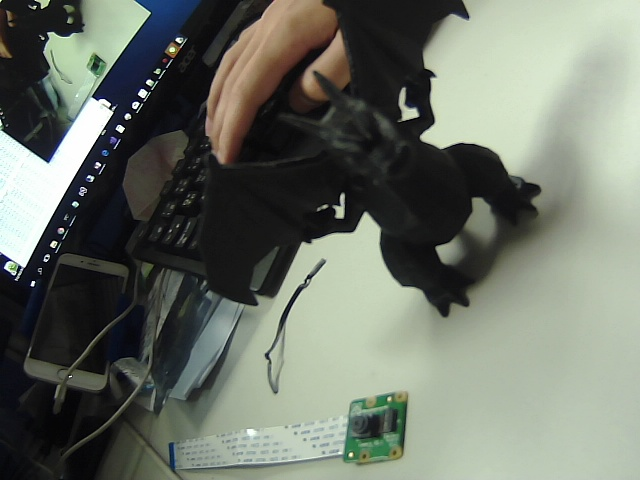charizard: (186, 1, 608, 362)
